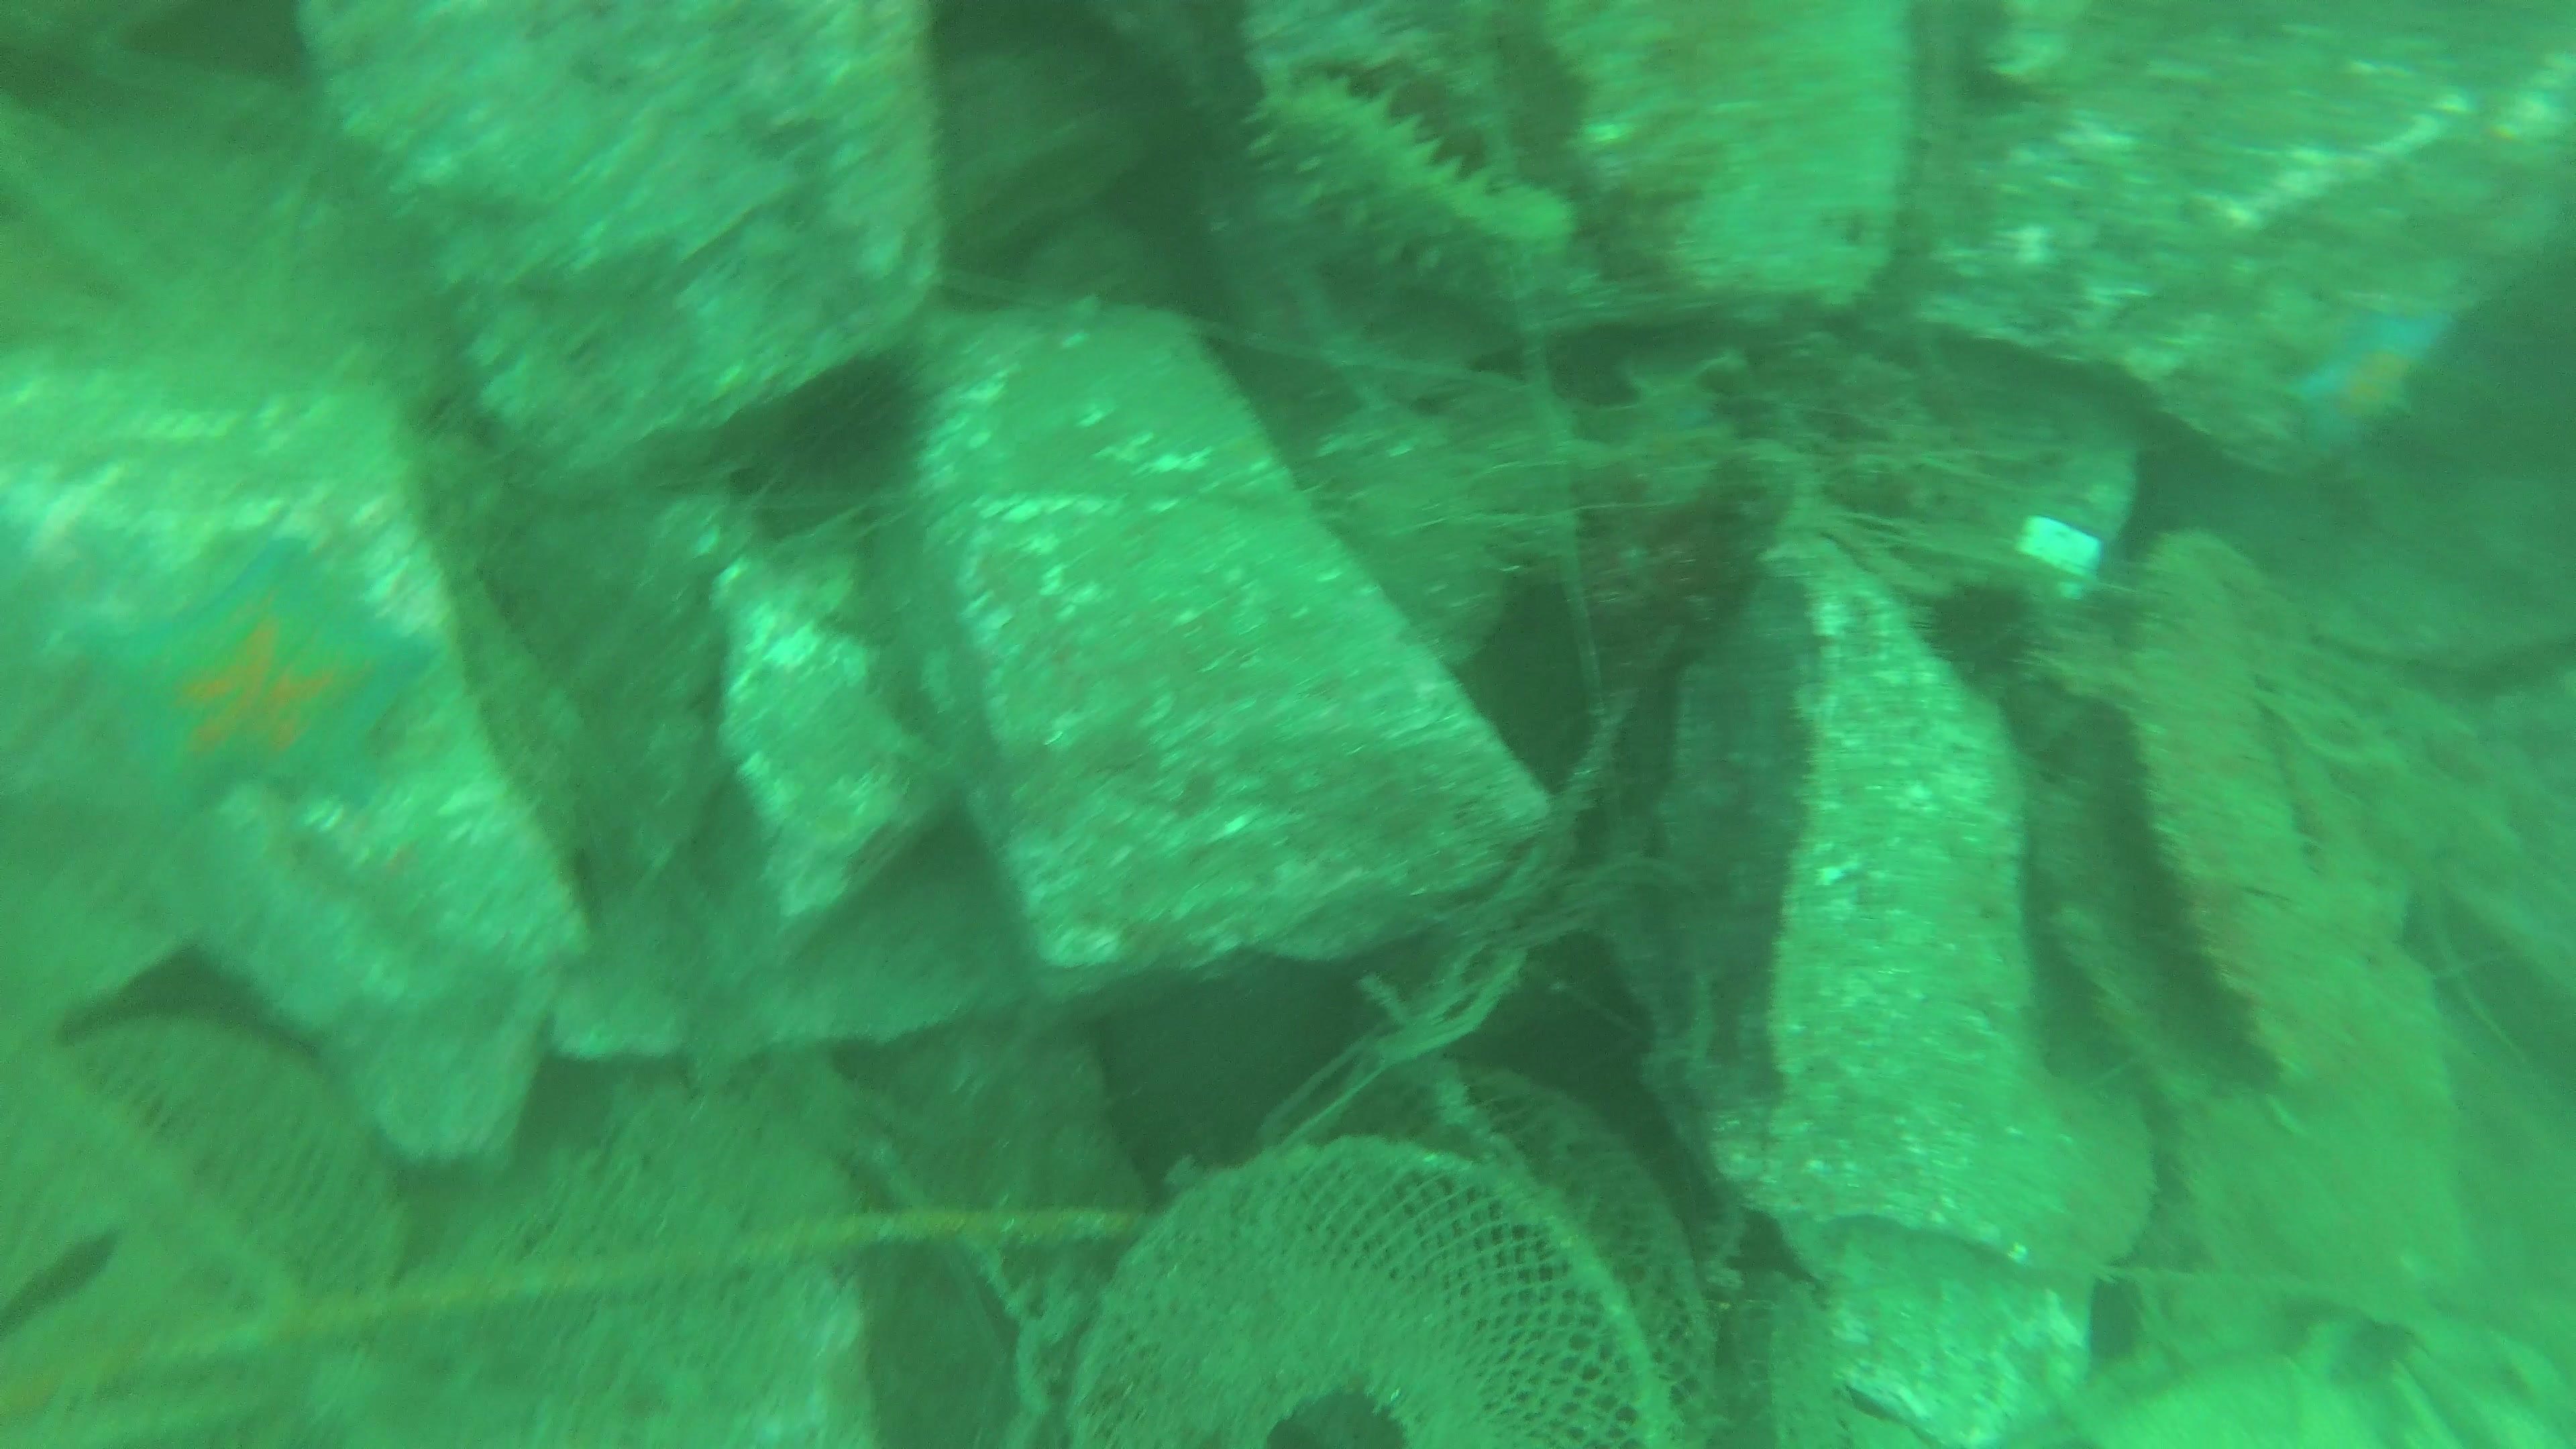echinus: (1923, 570, 2049, 683)
holothurian: (1235, 62, 1585, 301)
starfish: (69, 536, 449, 832), (2279, 303, 2461, 455)
